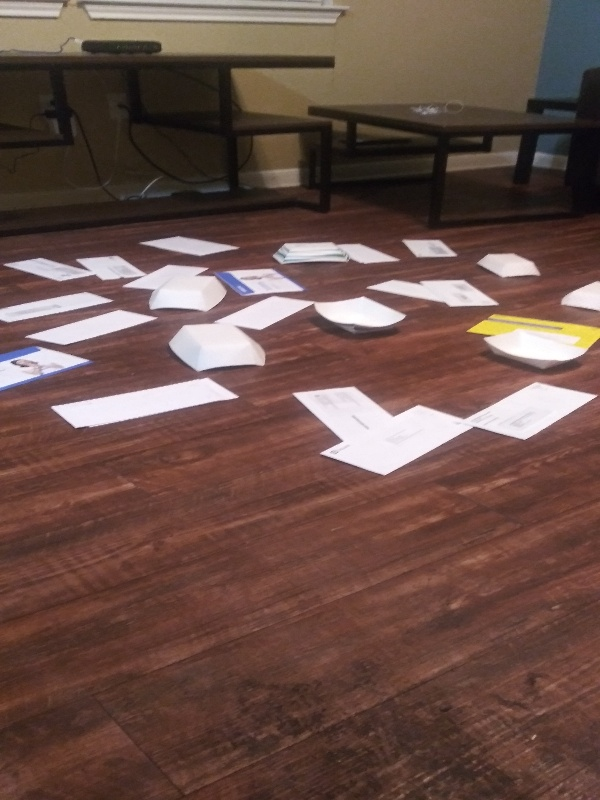plate: (161, 319, 271, 375), (310, 293, 412, 339), (145, 273, 228, 312), (267, 241, 351, 267), (476, 249, 543, 281), (553, 277, 600, 313)
